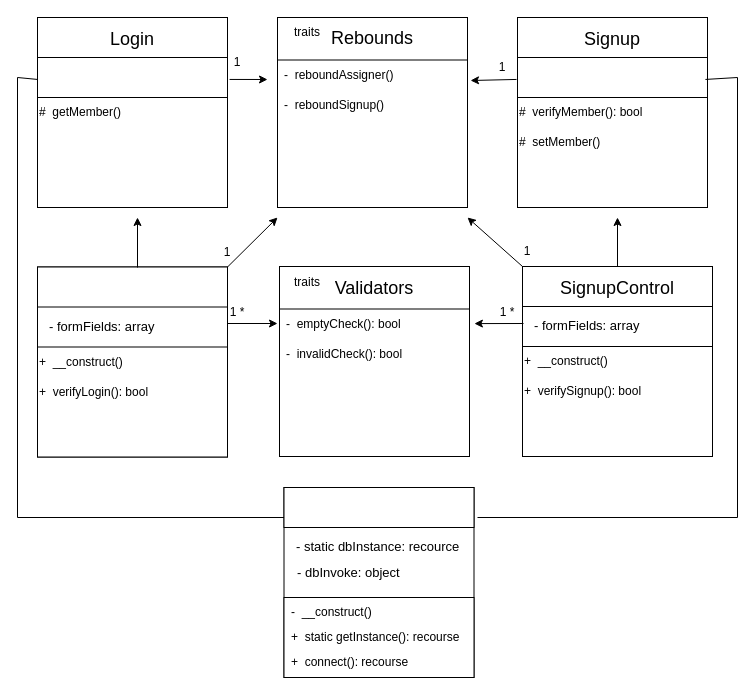
The diagram is 756 pixels wide and 695 high, and some of its shapes have lost their labels. The centre of each missing label's shape, as x and y in pixels:
Database: pixel 378 507
LoginControl: pixel 132 286
